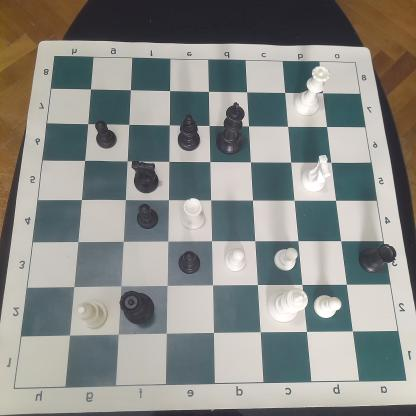black-bishop: (175, 111, 203, 153)
black-king: (213, 102, 248, 158)
black-knight: (129, 159, 162, 197)
black-pawn: (92, 117, 118, 150), (135, 202, 160, 232), (177, 248, 202, 277)
black-queen: (119, 288, 157, 328)
black-rook: (356, 240, 400, 276)
white-bishop: (74, 297, 110, 334)
white-king: (263, 284, 309, 326)
white-knight: (299, 154, 333, 194)
white-pawn: (311, 290, 346, 322), (272, 243, 302, 273), (223, 246, 247, 274)
white-queen: (290, 63, 332, 118)
white-rook: (178, 197, 206, 232)
